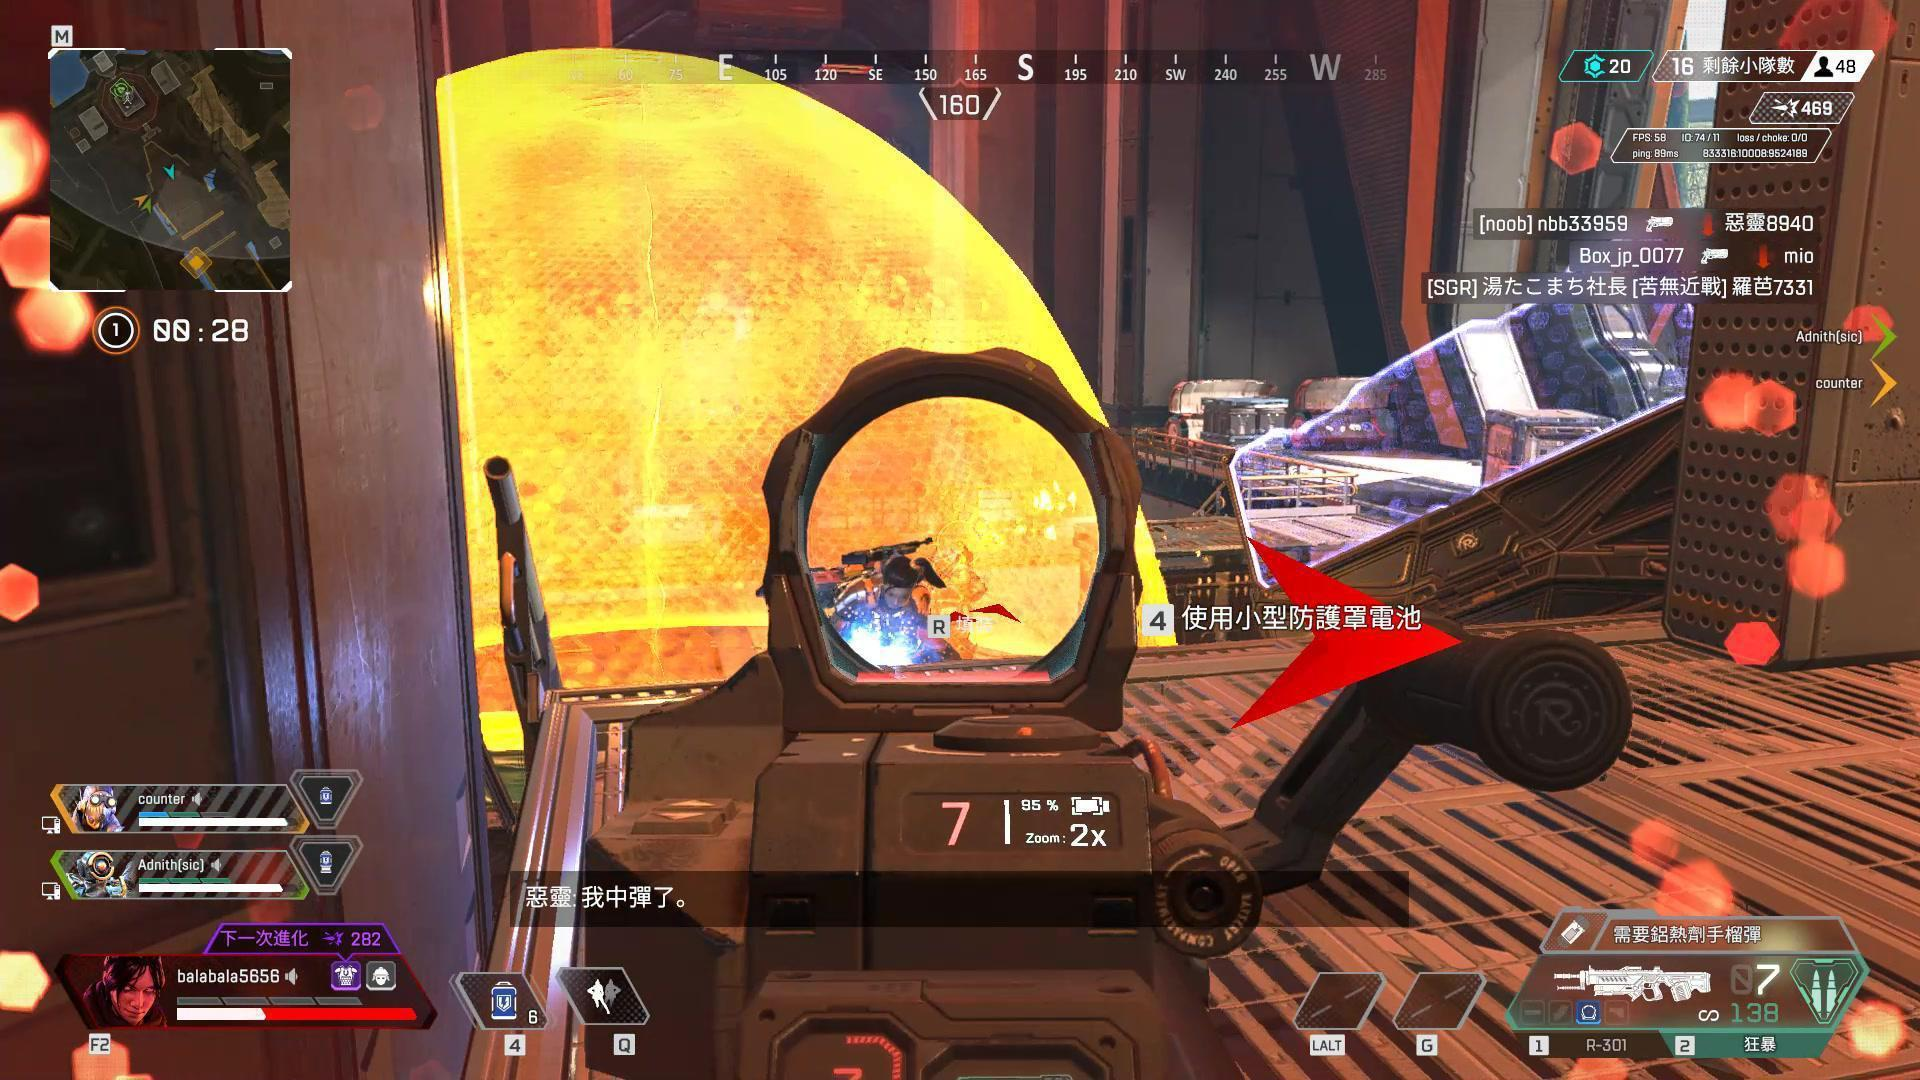avatar: (826, 552, 948, 666)
